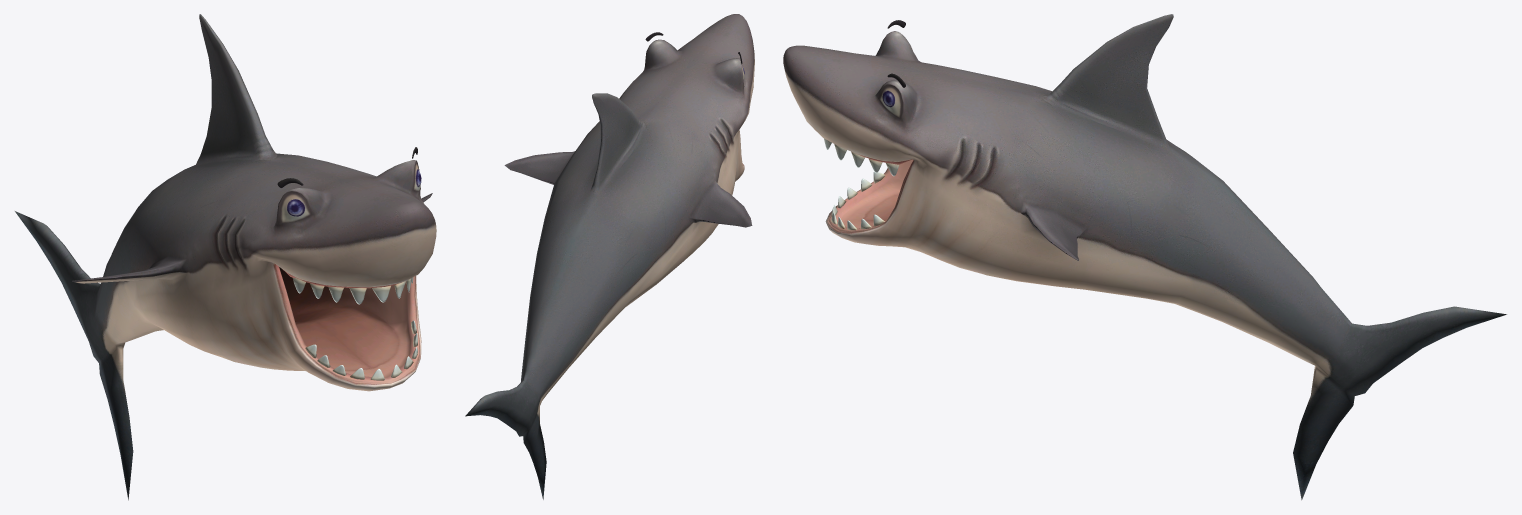
File: shark_heavygun.fbx
3 views of the same model, side by side, from view 1: azimuth 30°, elevation 25°; view 2: azimuth 150°, elevation 25°; view 3: azimuth 270°, elevation 25° (orthographic). The views are drawn at different scales.
Visible parts, largest first — view 1: node_id30 (×2); view 2: node_id30; view 3: node_id30.
Part boxes in pixels (x1,y1,x2,y2): node_id30 (×2): [15, 14, 436, 500]; node_id30: [465, 14, 754, 499]; node_id30: [783, 14, 1506, 500].
Size of the model in its own units: 0.3582 by 0.512 by 0.6901.
2 materials, 2 textured.
